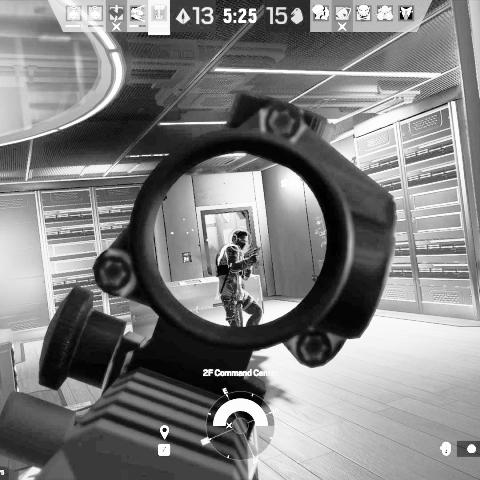Character: (214, 228, 263, 329)
Head: (230, 230, 250, 250)
